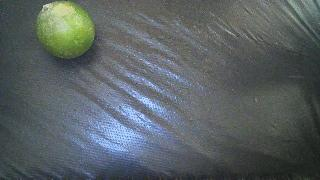DESECHO: (35, 1, 95, 59)
